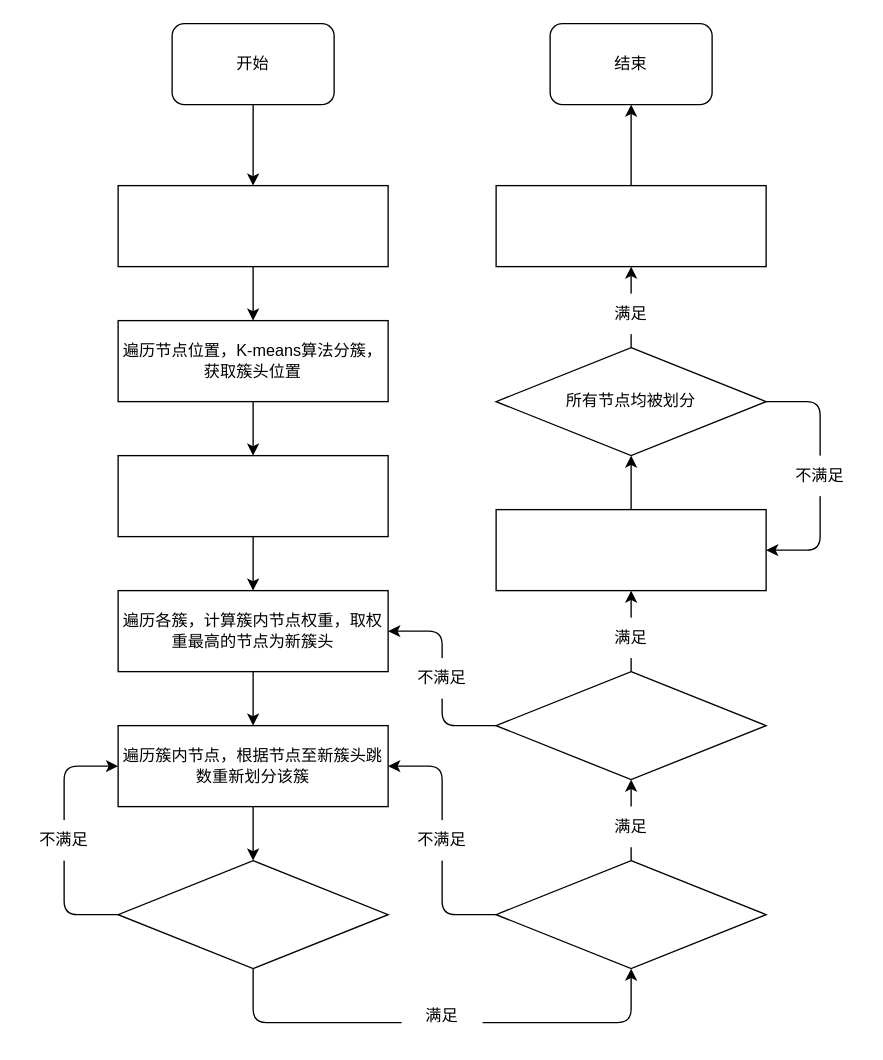
This 883x1060 diagram has some shape labels left out. The box of each missing label's shape, as (x1, y1, x2, y2) in pixels:
MEC节点部署位置确定: (495, 184, 766, 267)
各簇均被遍历且簇 成员集合不再变化: (495, 670, 766, 780)
根据计算任务和能量约 束，划分节点: (117, 859, 388, 969)
簇内节点均被遍历且簇 成员集合不再变化: (495, 859, 766, 969)
输电线路网络拓扑建立: (117, 184, 388, 267)
遍历剩余节点，划分至最小 跳数的簇头下: (495, 508, 766, 591)
遍历各簇，选择初始簇头，根据节点至簇头跳数划分该簇: (117, 454, 388, 537)
